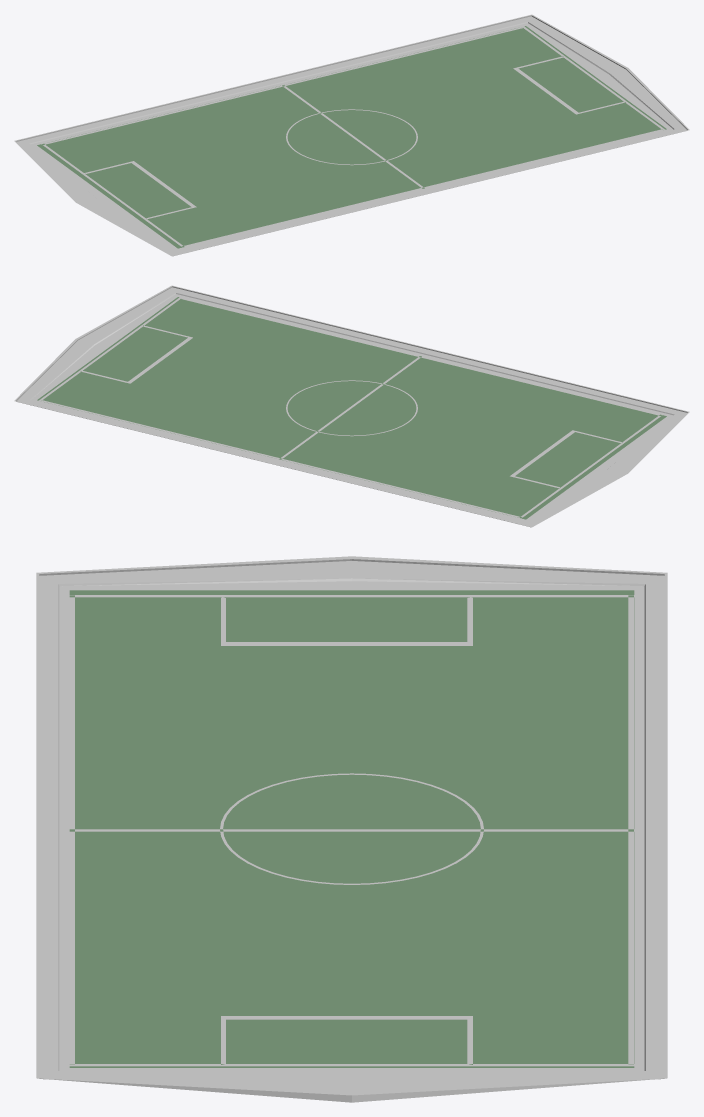
Rendered from campo 5.0 2.dae.
3 renders of one model, top to bottom at view 1: azimuth 30°, elevation 25°; view 2: azimuth 150°, elevation 25°; view 3: azimuth 270°, elevation 25°, orthographic. The views are drawn at different scales.
Parts seen in each view (by area): view 1: sub02_001; view 2: sub02_001; view 3: sub02_001.
Boxes of the visible parts, x1,y1,x2,y2 form: sub02_001: (14, 14, 689, 256); sub02_001: (14, 285, 689, 527); sub02_001: (36, 556, 667, 1102).
Size of the model in its own units: 31.66 by 15.65 by 0.175.
